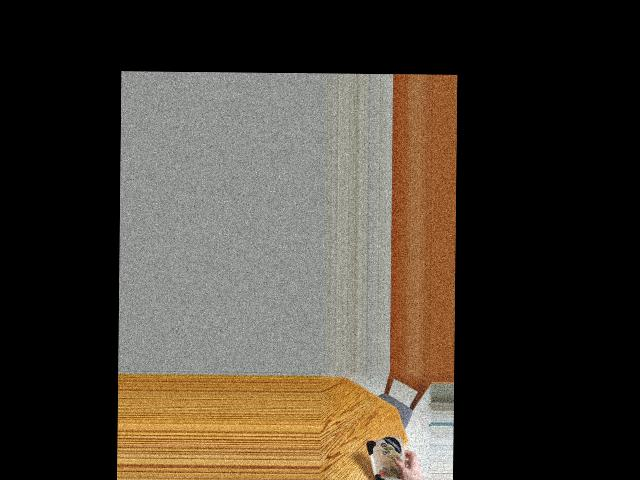cheese: (369, 433, 405, 480)
